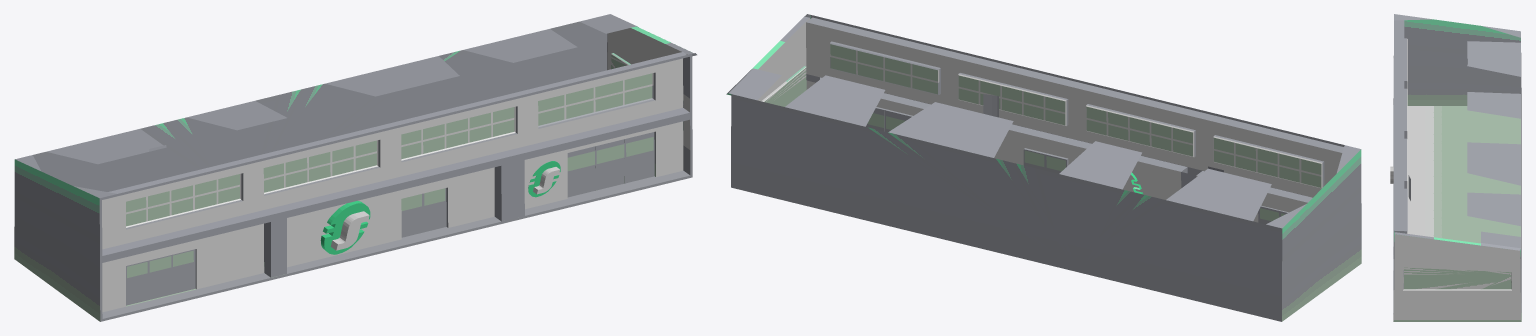
Rendered from Factory4-1.fbx.
3 views of the same model, side by side, from view 1: azimuth 30°, elevation 25°; view 2: azimuth 150°, elevation 25°; view 3: azimuth 270°, elevation 25° (orthographic). The views are drawn at different scales.
Visible parts, largest first — view 1: Cube.429; view 2: Cube.429; view 3: Cube.429.
Part boxes in pixels (x1,y1,x2,y2): Cube.429: [14, 14, 696, 321]; Cube.429: [726, 14, 1361, 321]; Cube.429: [1390, 14, 1521, 321].
Size of the model in its own units: 553 by 109 by 141.
